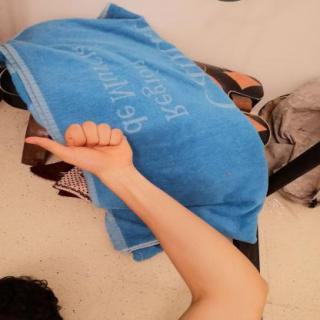DAD: (15, 116, 143, 179)
